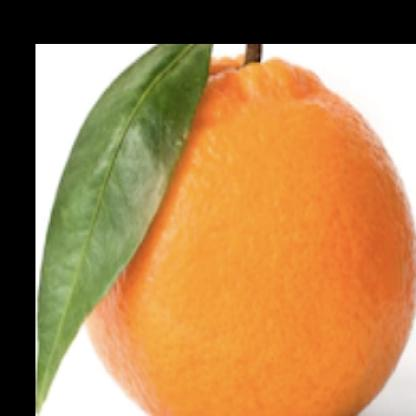rotten: (80, 51, 416, 416)
